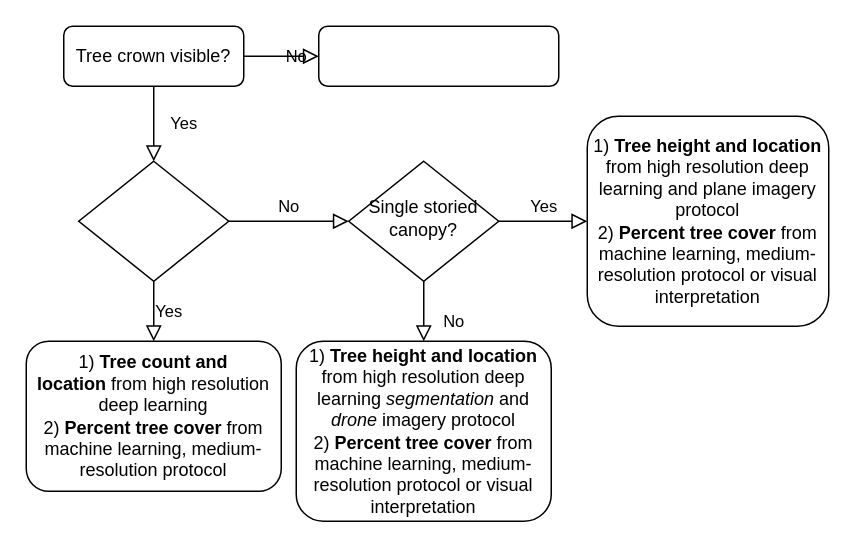
Image size: 855x548. Some labels were removed from this diagram. The centre of each missing label's shape, as x and y in pixels:
"Canopy cover less than 75%?" belongs at point (153, 220).
"Tree count, species, cover from field protocol" belongs at point (438, 55).
